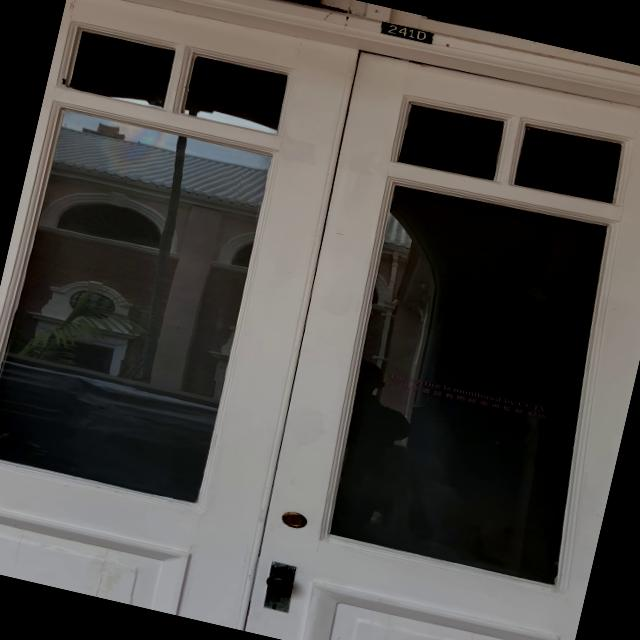room241d: (376, 16, 438, 48)
